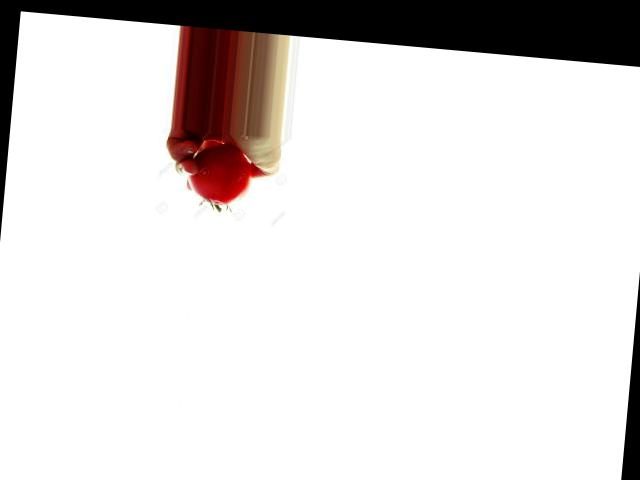tomato: (185, 141, 253, 207)
